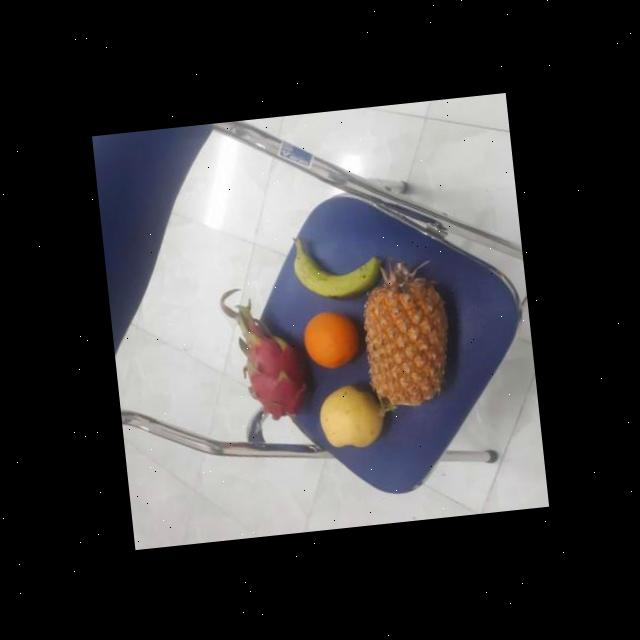banana: (290, 233, 383, 303)
orange: (300, 306, 360, 370)
pear: (314, 378, 386, 452)
pineapple: (354, 266, 458, 407)
pitaya: (240, 318, 314, 421)
